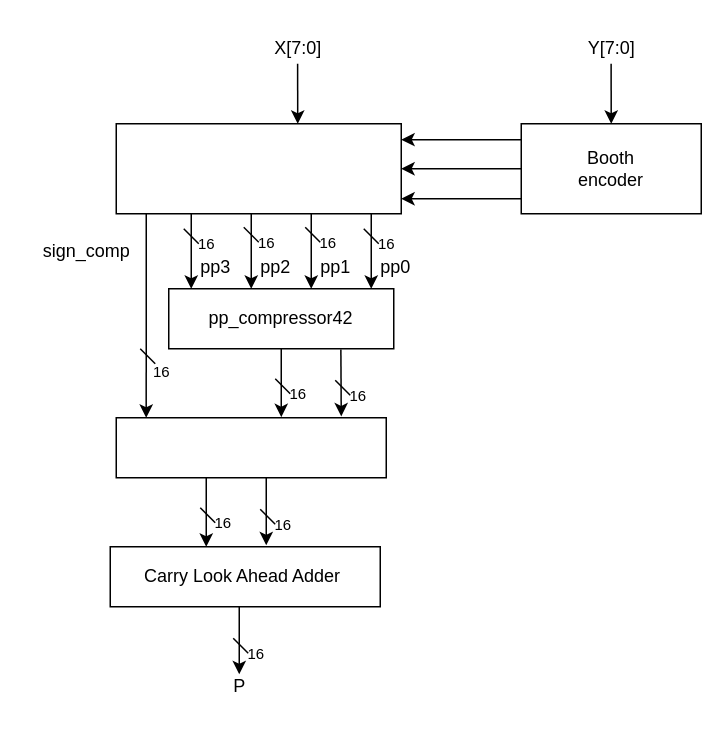
The diagram is 728 pixels wide and 734 high, and some of its shapes have lost their labels. Here are the shapes that lost their labels. From the top down, the centre of each, then its label:
the point at 258,168: booth_pp_gen
the point at 250,447: pp_compressor32
